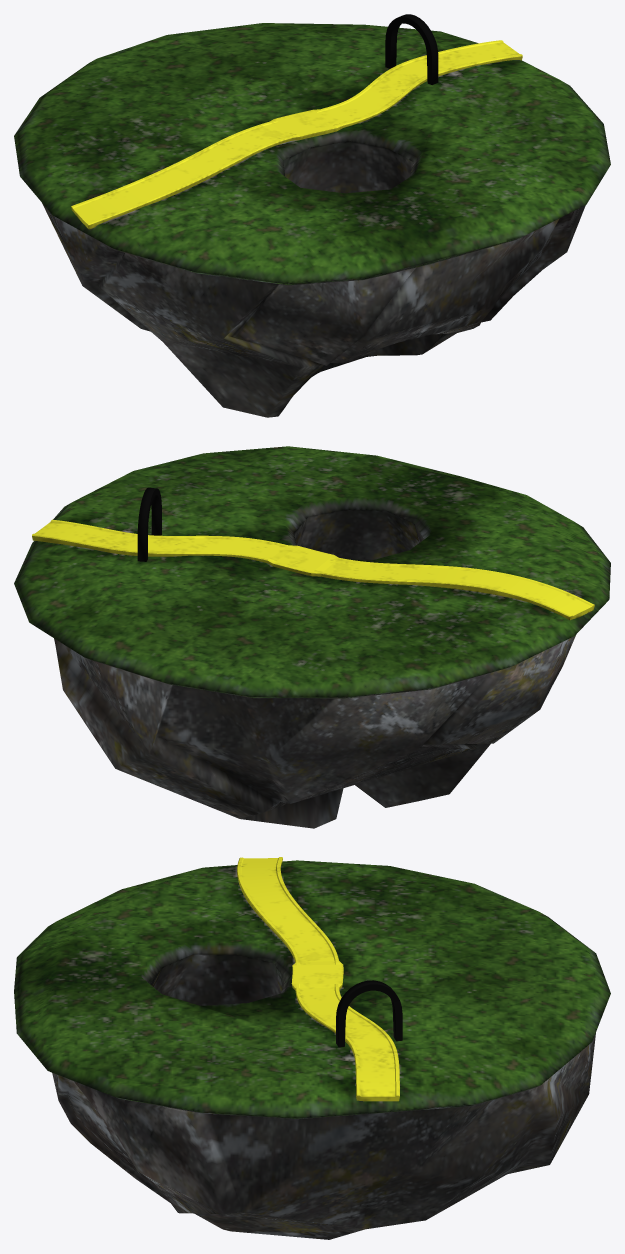
The model's file is island_1.glb.
3 renders of one model, top to bottom at view 1: azimuth 30°, elevation 25°; view 2: azimuth 150°, elevation 25°; view 3: azimuth 270°, elevation 25°, orthographic. The views are drawn at different scales.
Parts seen in each view (by area): view 1: Island2.001, Road.001, Archway.002; view 2: Island2.001, Road.001, Archway.002; view 3: Island2.001, Road.001, Archway.002.
Part boxes in pixels (<box>): Island2.001: <box>14,23,610,417</box>; Road.001: <box>71,40,522,229</box>; Archway.002: <box>385,14,438,84</box>; Island2.001: <box>14,446,610,828</box>; Road.001: <box>32,519,594,620</box>; Archway.002: <box>137,487,161,561</box>; Island2.001: <box>14,860,610,1239</box>; Road.001: <box>237,857,399,1101</box>; Archway.002: <box>336,980,402,1047</box>.
Size of the model in its own units: 24.81 by 14.52 by 24.2.
Materials: 1 (1 with a texture image).
